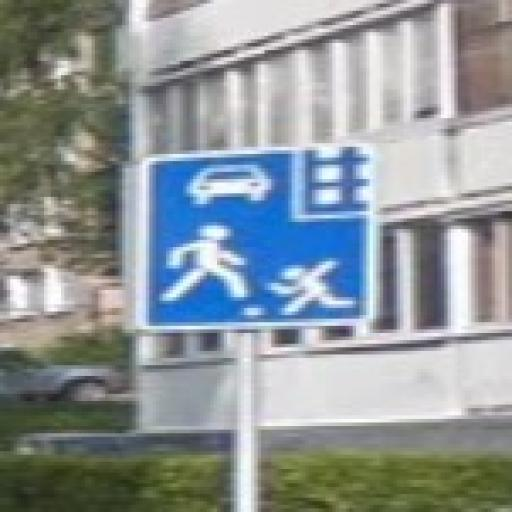traffic_sign: (140, 141, 377, 334)
